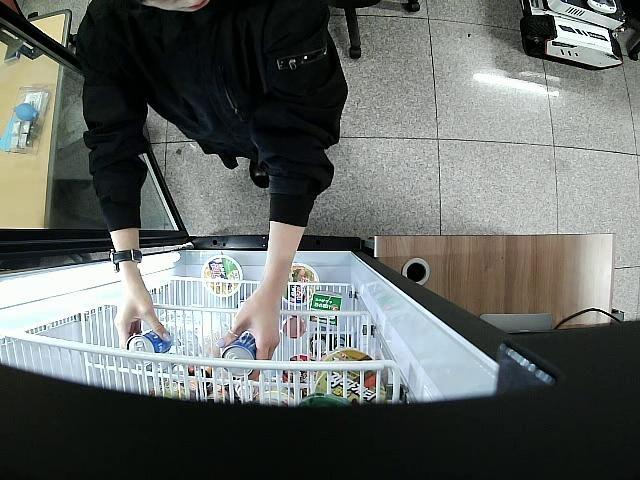15_letsbe: (221, 331, 256, 378), (126, 331, 174, 364)
